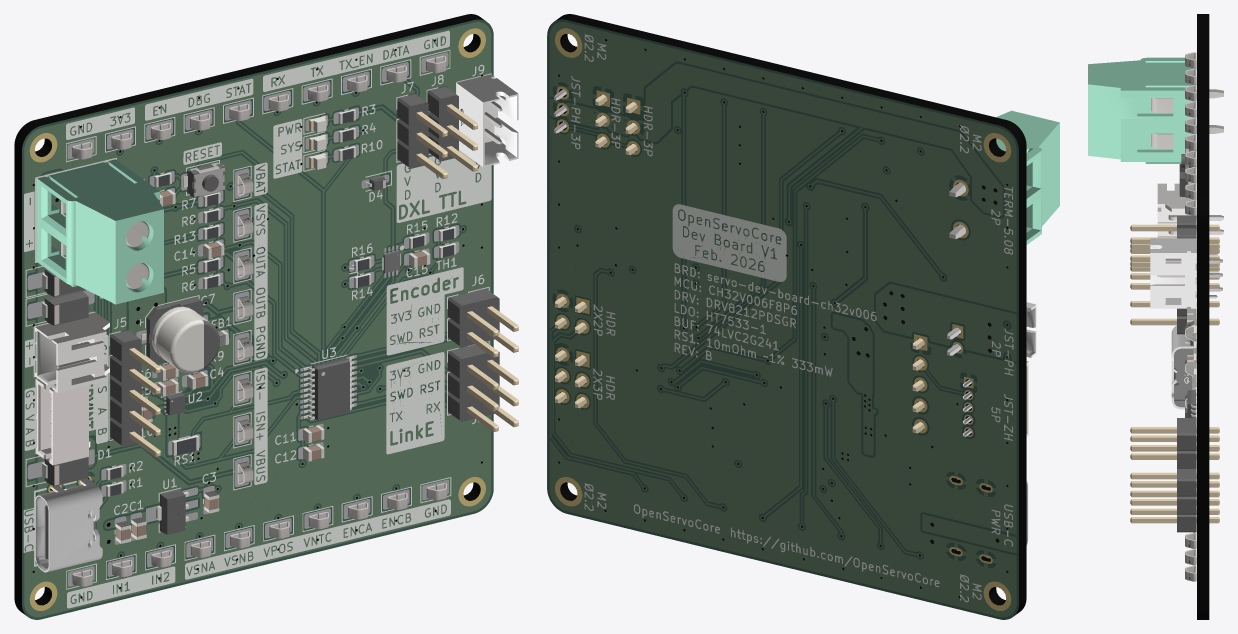
Rendered from servo-dev-board-ch32v006.glb.
3 views of the same model, side by side, from view 1: azimuth 30°, elevation 25°; view 2: azimuth 150°, elevation 25°; view 3: azimuth 270°, elevation 25° (orthographic). The views are drawn at different scales.
Visible parts, largest first — view 1: Shape (×2); view 2: Shape (×2); view 3: Shape.
Part boxes in pixels (left/top/right/bottom): Shape (×2): left=14, top=14, right=518, bottom=619; Shape (×2): left=547, top=14, right=1059, bottom=619; Shape: left=1088, top=14, right=1223, bottom=619.
Bounding box in the file's own units: 0.06 × 0.06 × 0.0175.
2 materials, 2 textured.
